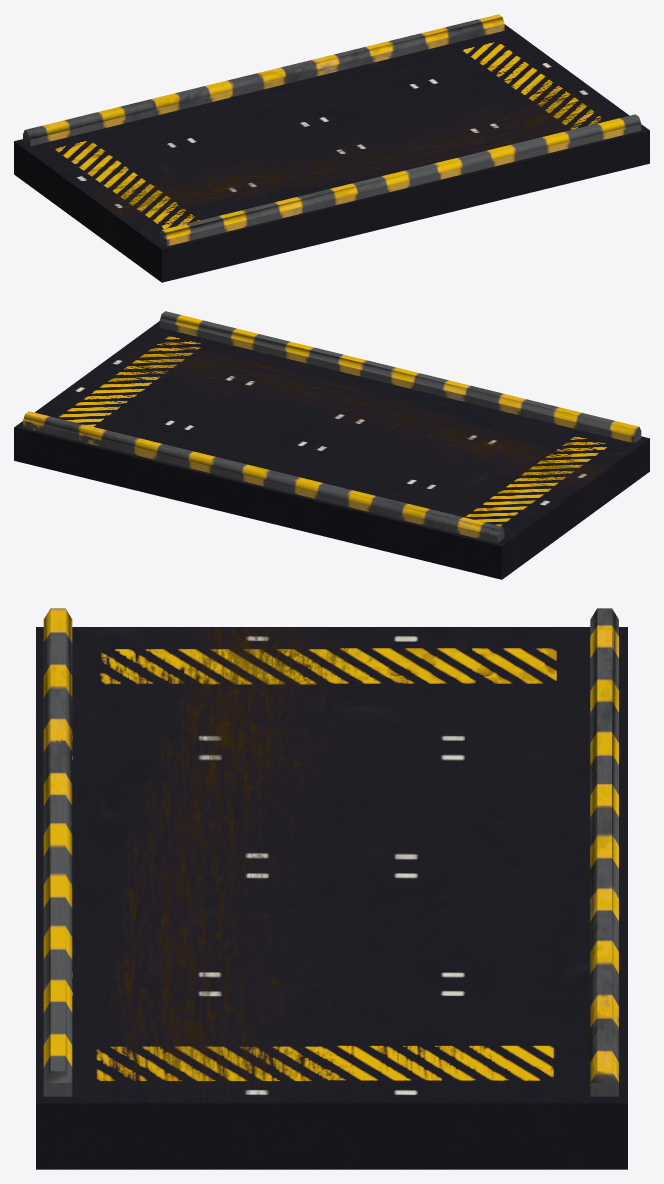
File: Platform1.fbx
3 views of the same model, one above another, from view 1: azimuth 30°, elevation 25°; view 2: azimuth 150°, elevation 25°; view 3: azimuth 270°, elevation 25° (orthographic). The views are drawn at different scales.
Visible parts, largest first — view 1: Platform1; view 2: Platform1; view 3: Platform1.
Boxes of the visible parts, x1=… form: Platform1: x1=14, y1=14, x2=649, y2=282; Platform1: x1=14, y1=311, x2=649, y2=579; Platform1: x1=36, y1=608, x2=627, y2=1169.
Size of the model in its own units: 400 by 35.81 by 210.
